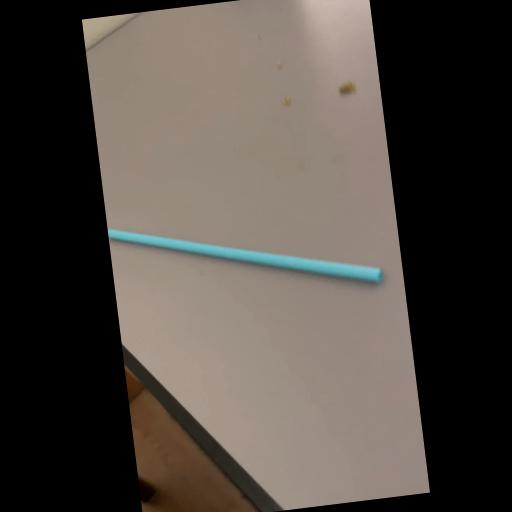straw: (107, 192, 389, 320)
